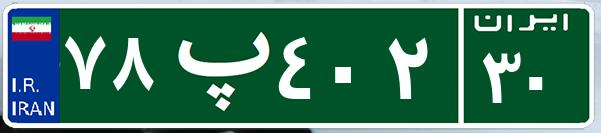0: (330, 28, 385, 110), (525, 38, 570, 115)
2: (385, 28, 445, 110)
3: (475, 38, 525, 113)
4: (273, 28, 330, 110)
7: (57, 26, 110, 107)
8: (110, 28, 158, 105)
پ: (158, 15, 273, 115)
